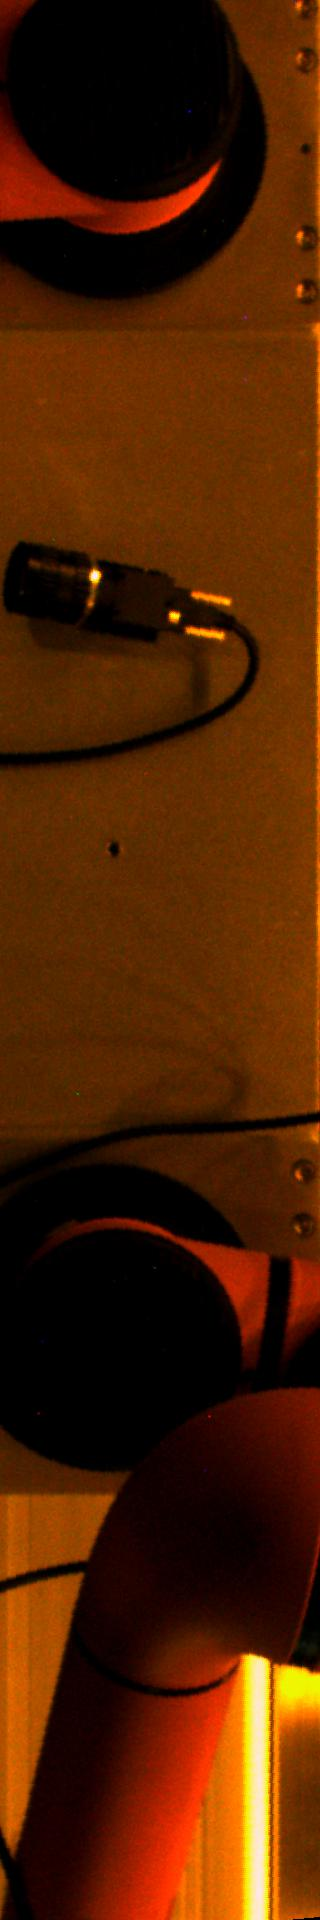keyPoint_2: (98, 834, 128, 864)
